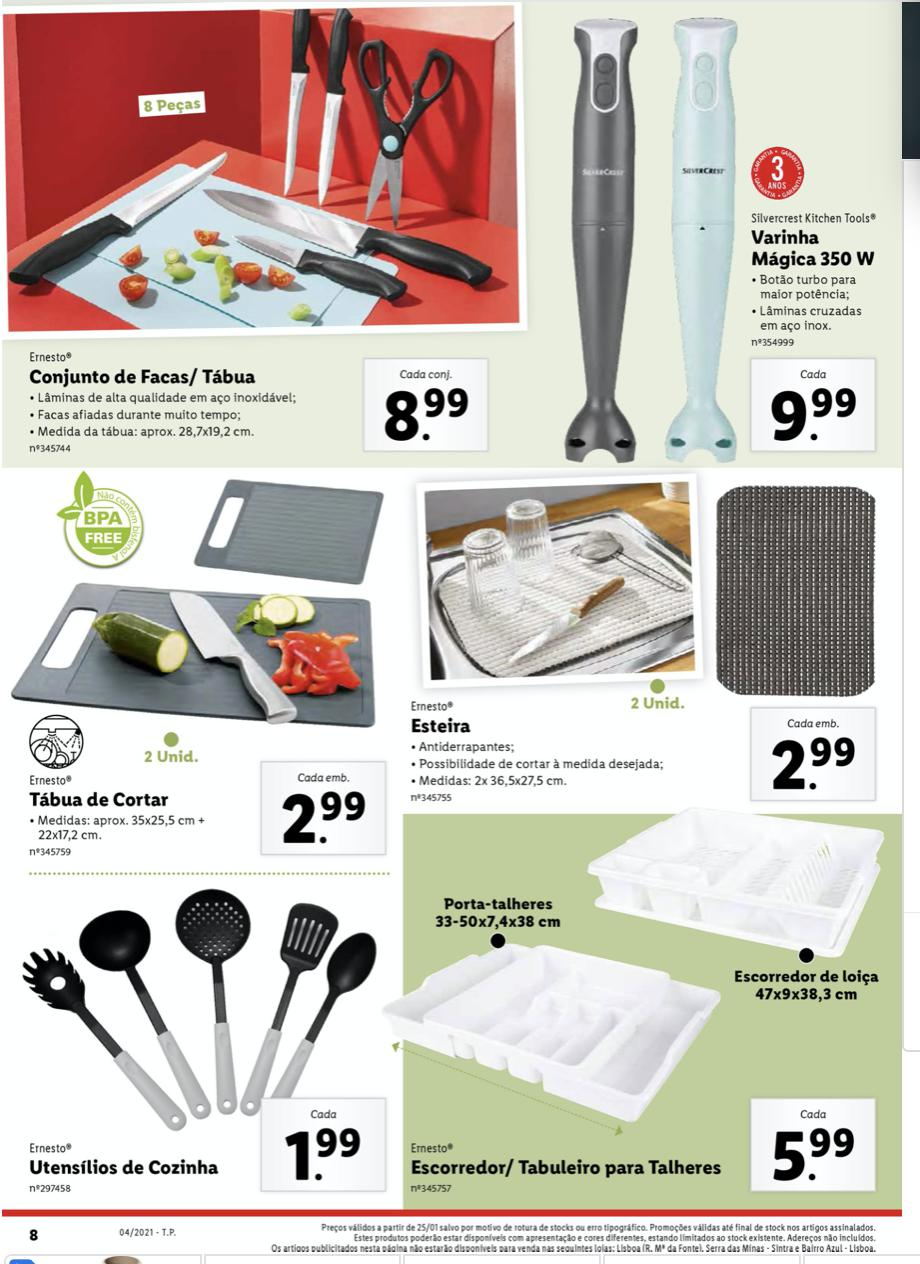name: (405, 1154, 725, 1183), (24, 364, 261, 390), (747, 226, 880, 272), (24, 1153, 227, 1181), (24, 787, 174, 812), (410, 712, 477, 739)
price: (761, 381, 866, 448), (766, 733, 863, 800), (275, 783, 367, 850), (277, 1126, 372, 1187), (763, 1125, 860, 1184), (378, 386, 469, 442)
product: (5, 1, 528, 448), (397, 809, 892, 1200), (405, 475, 892, 801), (552, 1, 897, 459), (5, 468, 392, 861), (14, 886, 397, 1200)
